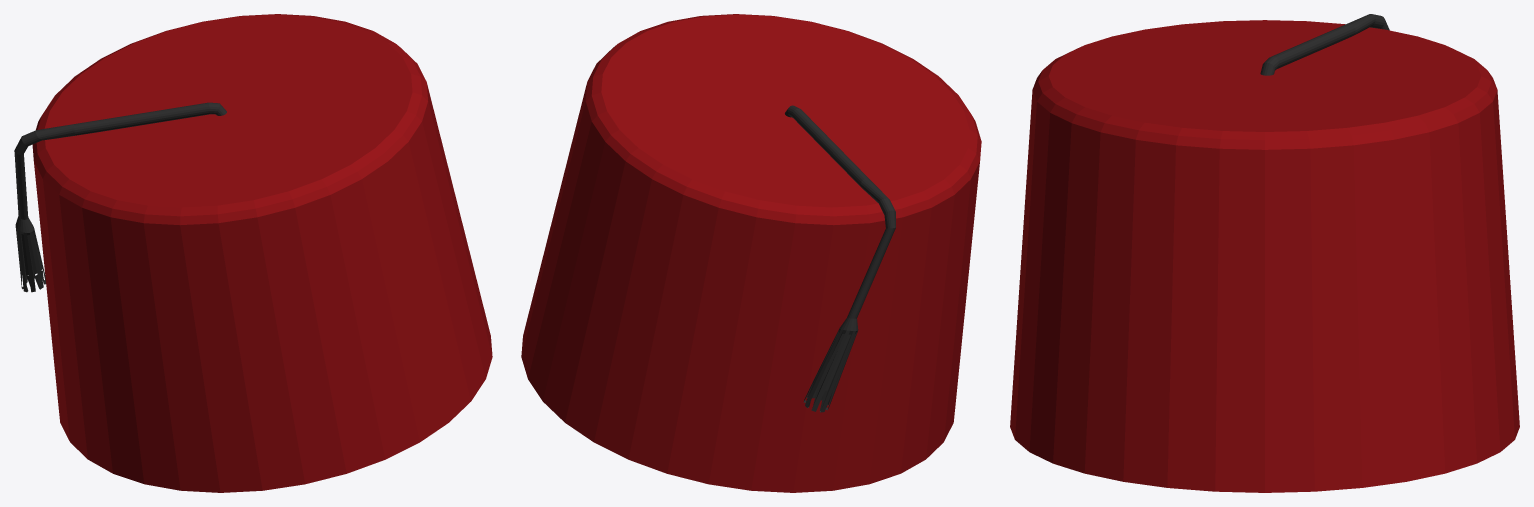
The model's file is hat_fez.glb.
3 renders of one model, left to right at view 1: azimuth 30°, elevation 25°; view 2: azimuth 150°, elevation 25°; view 3: azimuth 270°, elevation 25°, orthographic. The views are drawn at different scales.
Parts seen in each view (by area): view 1: Hatmodel; view 2: Hatmodel; view 3: Hatmodel.
Part boxes in pixels (left/top/right/bottom): Hatmodel: left=14, top=14, right=492, bottom=492; Hatmodel: left=521, top=14, right=981, bottom=492; Hatmodel: left=1010, top=14, right=1519, bottom=492.
Bounding box in the file's own units: 1.49 × 1.21 × 1.41.
